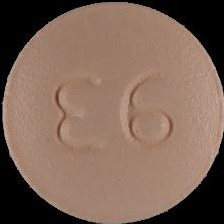55700-280: (0, 0, 224, 224)
